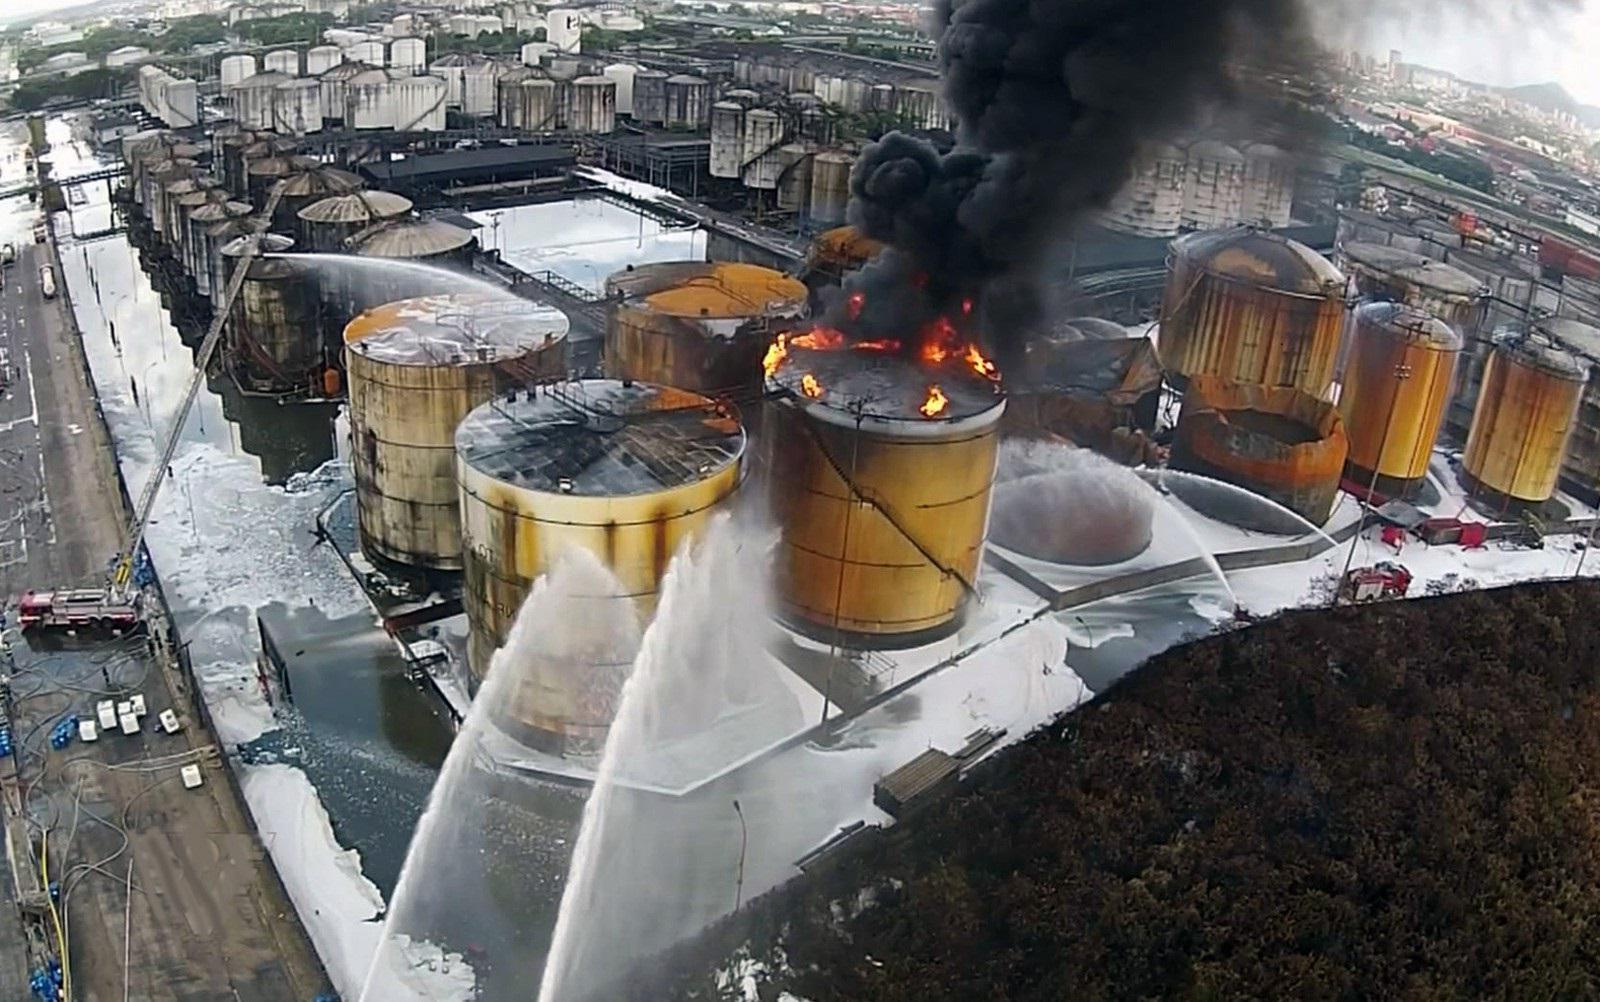Fire: (791, 324, 848, 356), (963, 337, 1007, 377), (919, 379, 956, 420), (758, 332, 788, 377), (924, 339, 952, 367), (799, 374, 828, 401)
